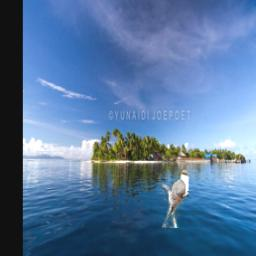Cuckoo: (163, 170, 190, 229)
